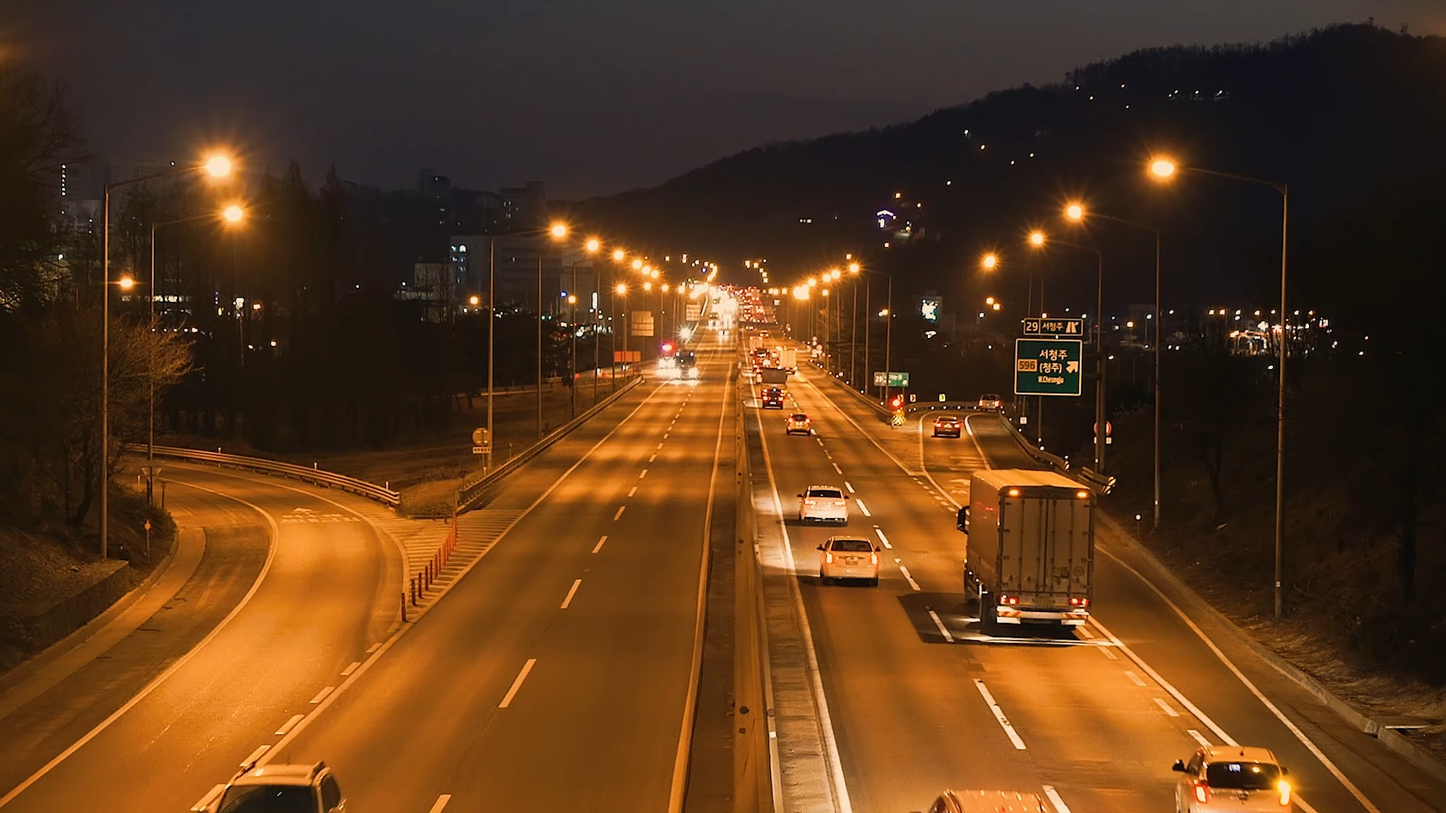car: (819, 530, 884, 583), (798, 478, 853, 524)
truck: (957, 463, 1103, 641)
